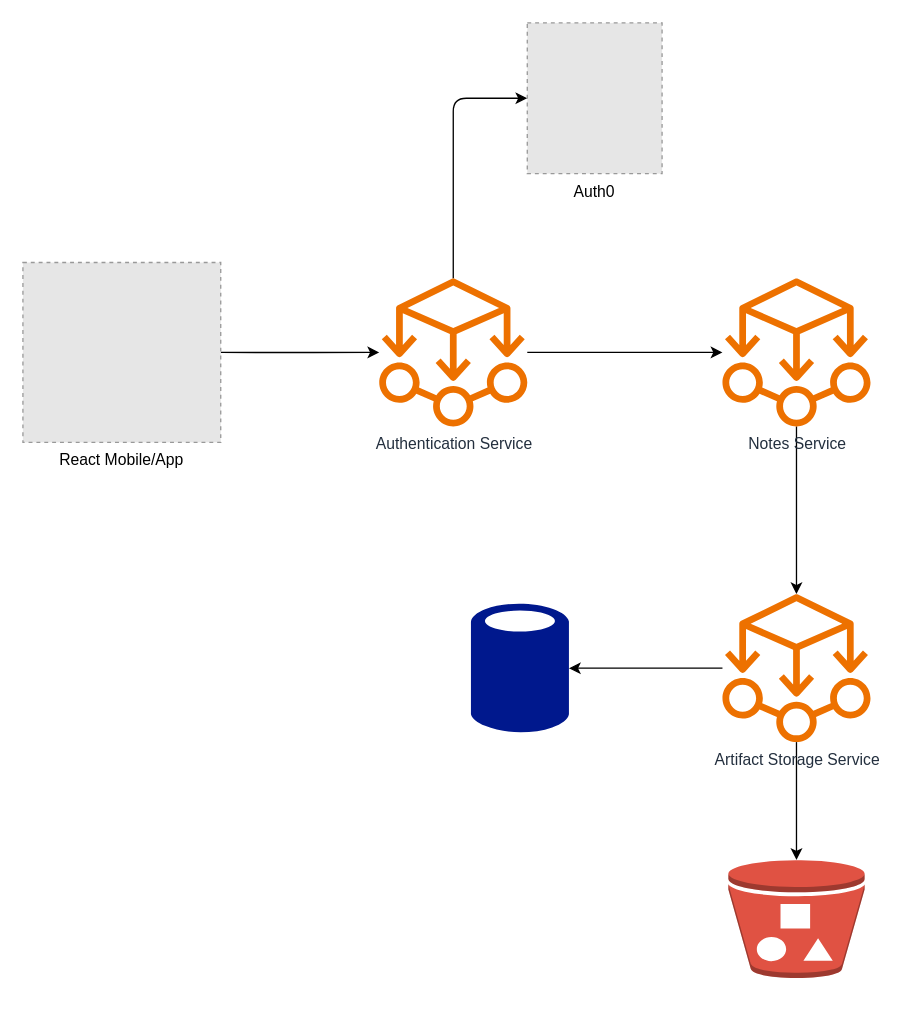
Image size: 901x1028. Some labels were removed from this diagram. Grey dashed boxes stand in for pictures. Here are the shapes that lost their labels. From the top down, the centre of each, then its label:
At (519,667): "Notes Metadata Record".
At (796,918): "Notes Document".
